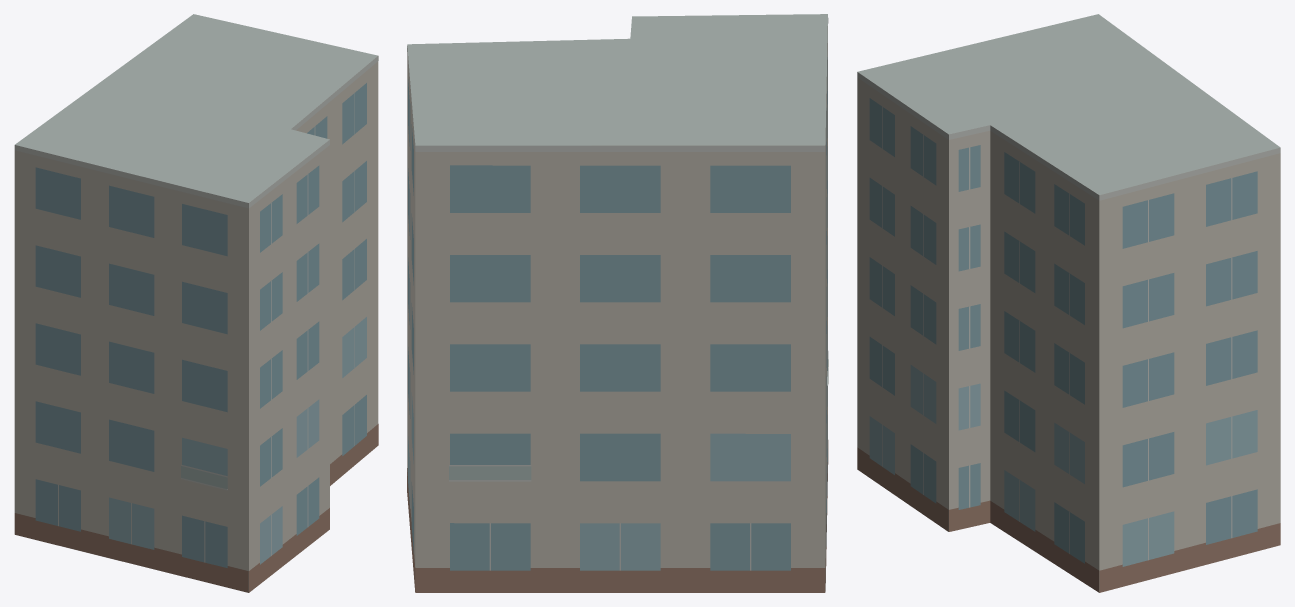
File: survey-upis-32678469.glb
3 renders of one model, left to right at view 1: azimuth 30°, elevation 25°; view 2: azimuth 150°, elevation 25°; view 3: azimuth 270°, elevation 25°, orthographic. The views are drawn at different scales.
Visible parts, largest first — view 1: survey-upis-32678469.tmp; view 2: survey-upis-32678469.tmp; view 3: survey-upis-32678469.tmp.
Part boxes in pixels (x1=…): survey-upis-32678469.tmp: x1=14, y1=14, x2=378, y2=592; survey-upis-32678469.tmp: x1=407, y1=14, x2=828, y2=592; survey-upis-32678469.tmp: x1=857, y1=14, x2=1280, y2=592.
Size of the model in its own units: 17.27 by 17.65 by 17.04.
